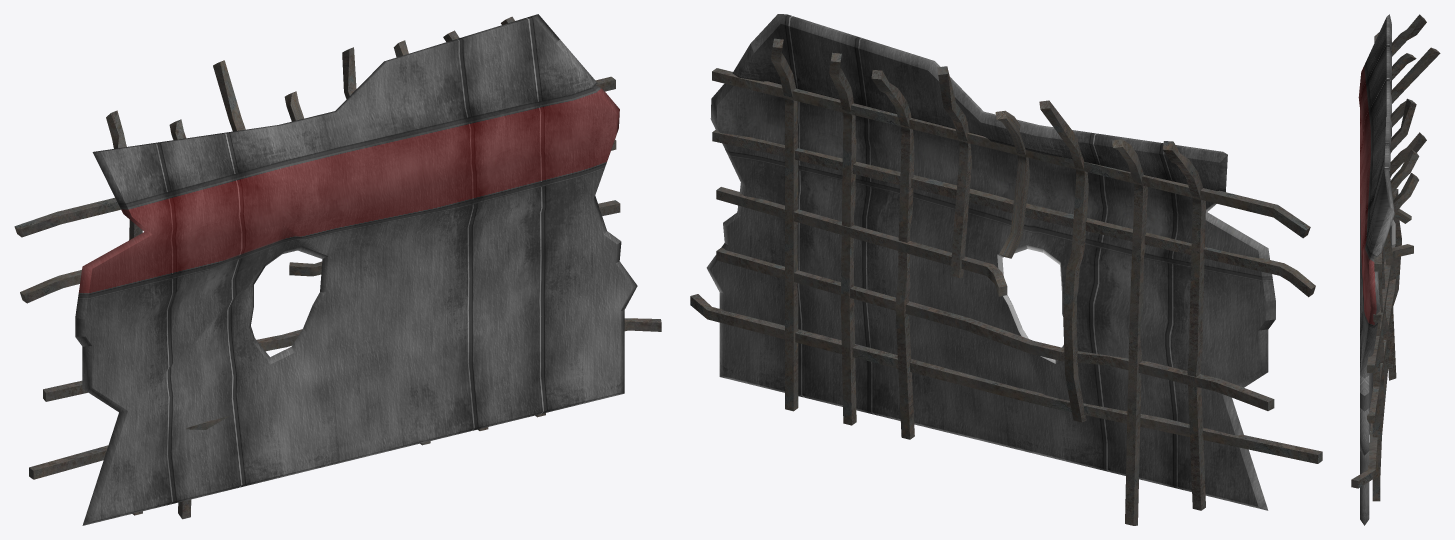
File: ShipWreckage1.fbx
3 views of the same model, side by side, from view 1: azimuth 30°, elevation 25°; view 2: azimuth 150°, elevation 25°; view 3: azimuth 270°, elevation 25° (orthographic). The views are drawn at different scales.
Visible parts, largest first — view 1: pCube1, pasted__pasted__pCube2, pasted__pasted__pasted__pasted__pCube2, pasted__pCube2, pasted__pasted__pasted__pasted__pasted__pCube2, pasted__pasted__pasted__pCube2; view 2: pCube1, pasted__pasted__pasted__pasted__pCube2 (×5), pasted__pasted__pasted__pCube2 (×2), pasted__pasted__pasted__pasted__pasted__pCube2 (×3), pasted__pasted__pCube2, pasted__pCube2, pCube2; view 3: pCube1, pasted__pasted__pasted__pasted__pCube2 (×5), pasted__pasted__pasted__pasted__pasted__pCube2 (×3), pCube2, pasted__pCube2, pasted__pasted__pCube2, pasted__pasted__pasted__pCube2.
Part boxes in pixels (box(x1,y1,x2,y2)): pCube1: box(75, 14, 637, 525); pasted__pasted__pCube2: box(29, 318, 661, 479); pasted__pasted__pasted__pasted__pCube2: box(14, 76, 615, 237); pasted__pCube2: box(43, 329, 302, 401); pasted__pasted__pasted__pasted__pasted__pCube2: box(213, 60, 245, 131); pasted__pasted__pasted__pCube2: box(20, 139, 616, 303); pCube1: box(706, 14, 1275, 510); pasted__pasted__pasted__pasted__pCube2 (×5): box(712, 38, 1310, 525); pasted__pasted__pasted__pCube2 (×2): box(712, 130, 1315, 510); pasted__pasted__pasted__pasted__pasted__pCube2 (×3): box(937, 66, 1088, 422); pasted__pasted__pCube2: box(690, 294, 1322, 463); pasted__pCube2: box(716, 248, 1274, 410); pCube2: box(716, 187, 1007, 296); pCube1: box(1358, 14, 1395, 525); pasted__pasted__pasted__pasted__pCube2 (×5): box(1372, 32, 1426, 501); pasted__pasted__pasted__pasted__pasted__pCube2 (×3): box(1383, 47, 1440, 305); pCube2: box(1367, 244, 1413, 372); pasted__pCube2: box(1367, 189, 1398, 423); pasted__pasted__pCube2: box(1351, 423, 1377, 488); pasted__pasted__pasted__pCube2: box(1392, 14, 1426, 56).
Size of the model in its own units: 10.91 by 7.03 by 1.6.
Materials: 4 (3 with a texture image).
